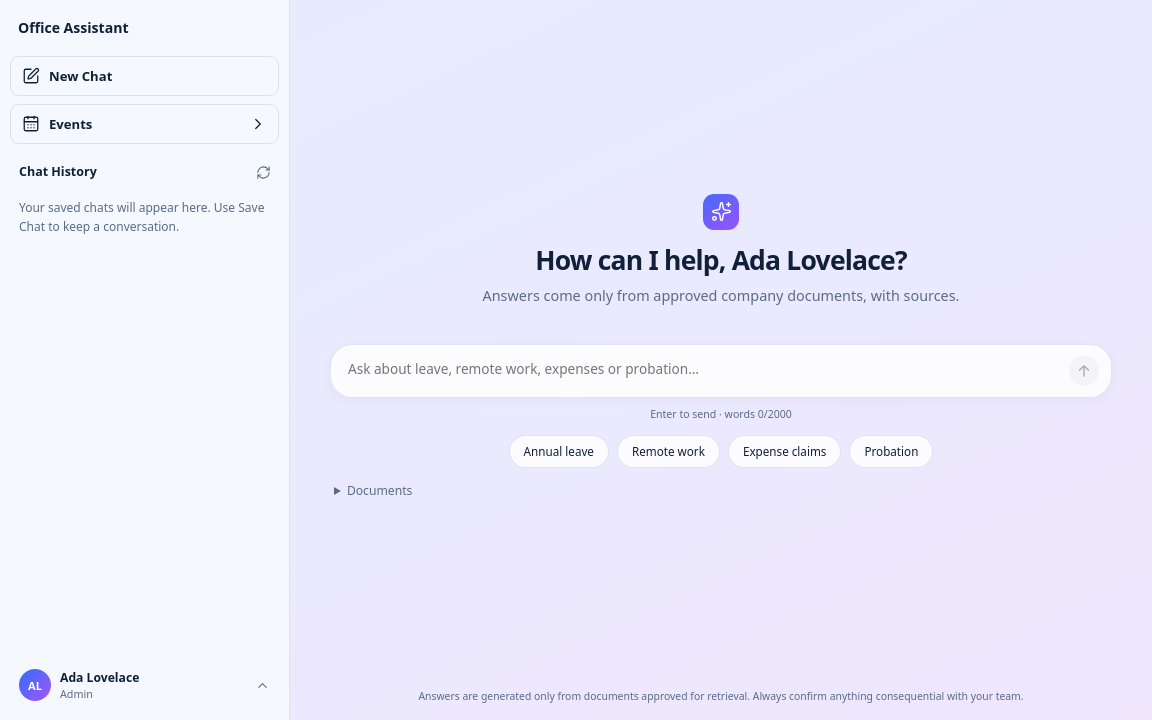
it: conversation › keeps the existing tenant in the request body
Expected: the button named "send question" is shown, left=1069, top=356, right=1099, bottom=386
Type "How much leave?" into the text box labelled "Ask about leave, remote work, expenses or probation…" at (704, 371), box left=348, top=357, right=1061, bottom=385
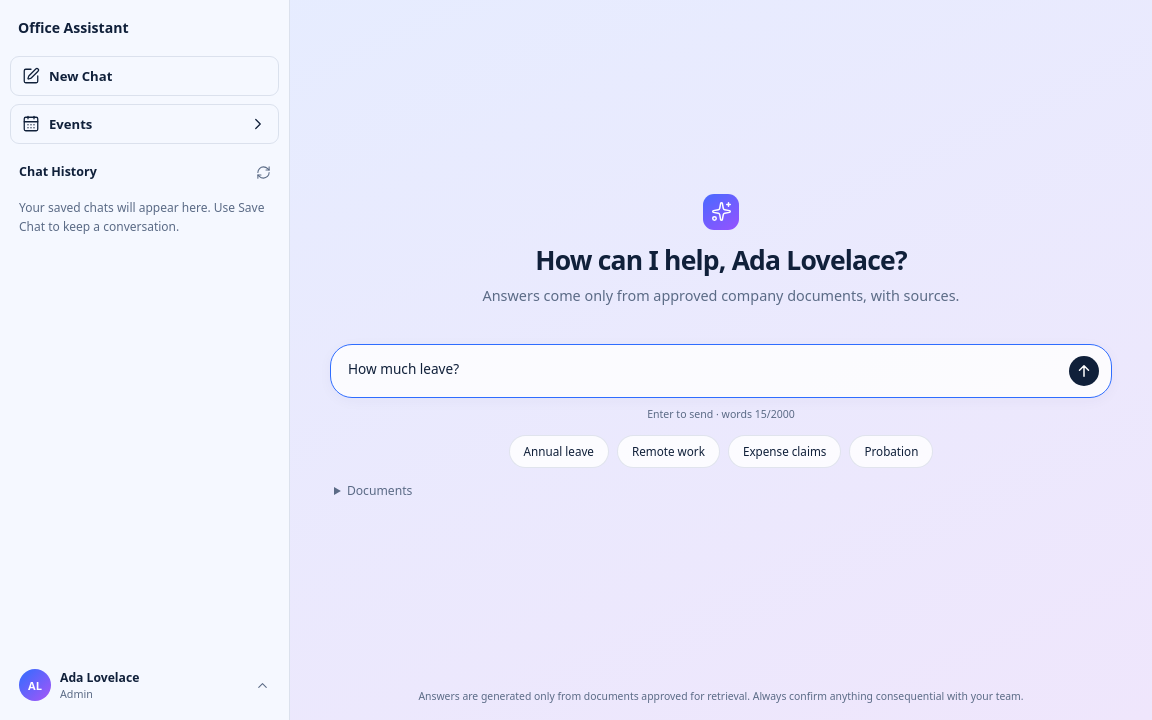
Click the button named "send question" at (1084, 371), box left=1069, top=356, right=1099, bottom=386
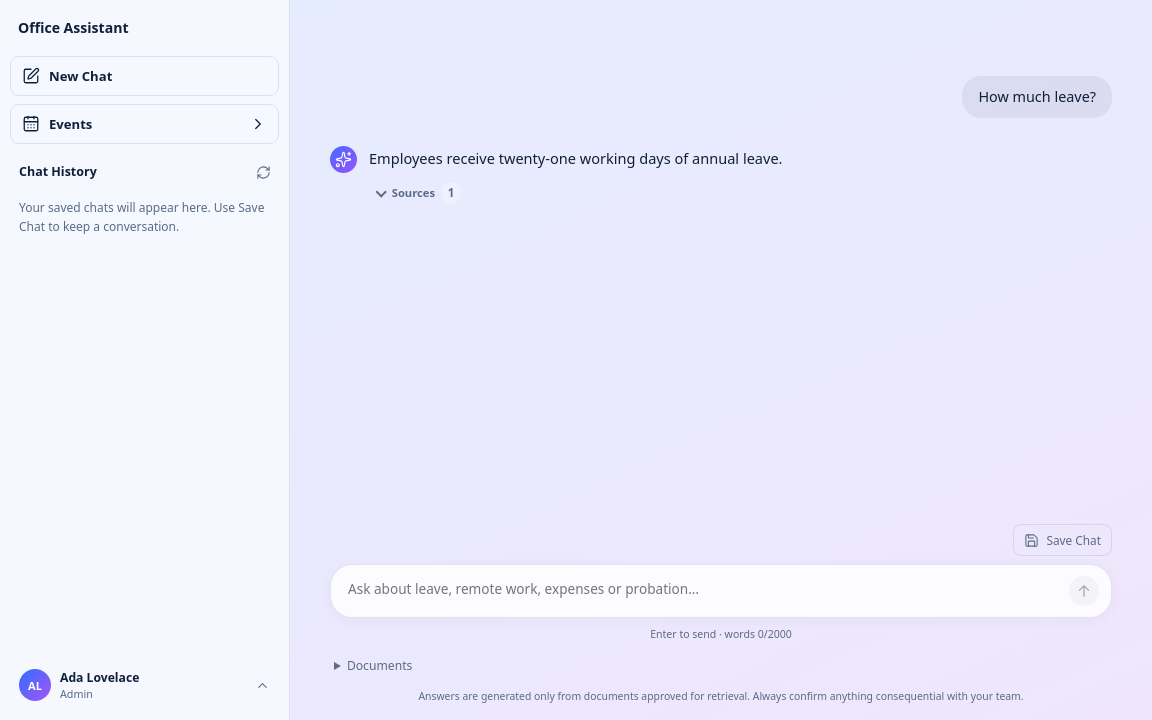
Result: the text "Employees receive twenty-one working days of annual leave." is shown at left=369, top=148, right=782, bottom=168
